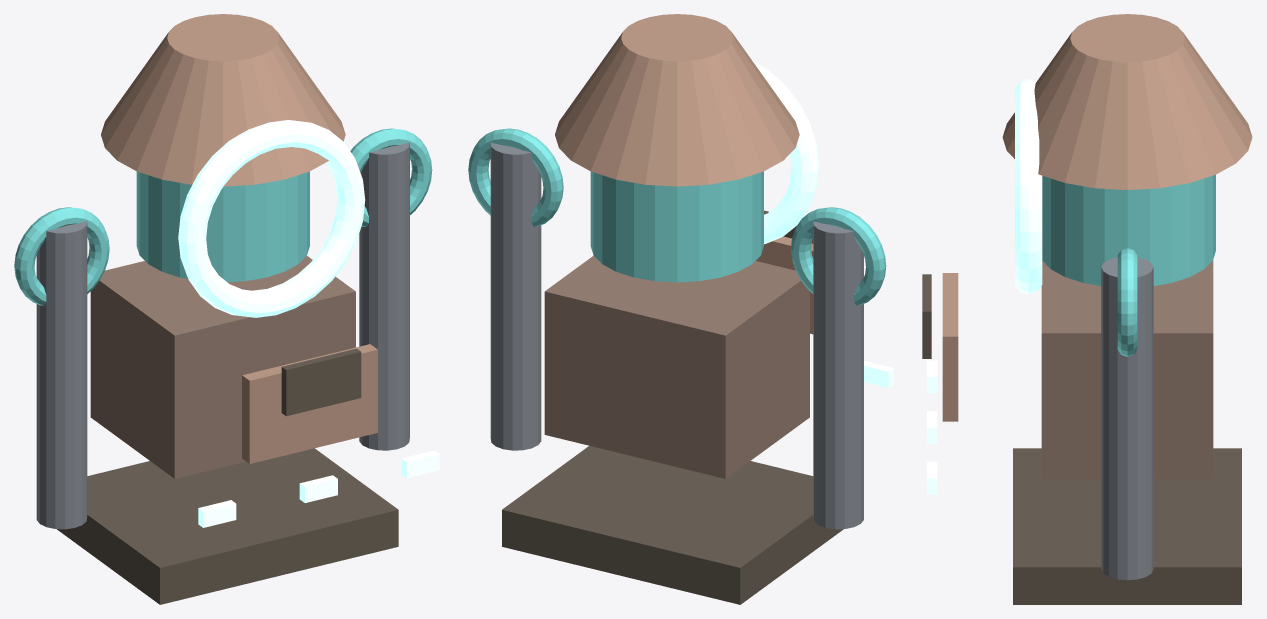
Rendered from asset.glb.
3 renders of one model, left to right at view 1: azimuth 30°, elevation 25°; view 2: azimuth 150°, elevation 25°; view 3: azimuth 270°, elevation 25°, orthographic. The views are drawn at different scales.
Visible parts, largest first — view 1: Housing, Foot, TopCap, SidePost_-1, CoreHalo, Core, SidePost_1, FrontInset, ControlFace, SideRing_-1, SideRing_1, FunctionalTrim_1 (+2 smaller); view 2: Housing, Foot, TopCap, Core, SidePost_1, SidePost_-1, CoreHalo, SideRing_-1, SideRing_1, FrontInset, FunctionalTrim_0; view 3: TopCap, Foot, Housing, SidePost_1, Core, CoreHalo, FrontInset, SideRing_1, ControlFace.
Boxes of the visible parts, x1=… form: Housing: x1=90, y1=256, x2=355, y2=478; Foot: x1=57, y1=448, x2=398, y2=604; TopCap: x1=101, y1=14, x2=345, y2=186; SidePost_-1: x1=36, y1=216, x2=87, y2=529; CoreHalo: x1=178, y1=120, x2=365, y2=317; Core: x1=136, y1=171, x2=309, y2=282; SidePost_1: x1=359, y1=137, x2=409, y2=450; FrontInset: x1=242, y1=344, x2=377, y2=463; ControlFace: x1=281, y1=348, x2=361, y2=416; SideRing_-1: x1=14, y1=207, x2=109, y2=305; SideRing_1: x1=350, y1=128, x2=432, y2=226; FunctionalTrim_1: x1=299, y1=475, x2=337, y2=502; Housing: x1=544, y1=255, x2=809, y2=478; Foot: x1=502, y1=446, x2=843, y2=604; TopCap: x1=555, y1=14, x2=799, y2=186; Core: x1=590, y1=171, x2=763, y2=282; SidePost_1: x1=490, y1=137, x2=541, y2=450; SidePost_-1: x1=813, y1=216, x2=863, y2=529; CoreHalo: x1=752, y1=60, x2=819, y2=244; SideRing_-1: x1=791, y1=207, x2=886, y2=305; SideRing_1: x1=468, y1=128, x2=563, y2=226; FrontInset: x1=756, y1=236, x2=813, y2=334; FunctionalTrim_0: x1=864, y1=361, x2=893, y2=387; TopCap: x1=1002, y1=14, x2=1252, y2=189; Foot: x1=1013, y1=448, x2=1241, y2=604; Housing: x1=1041, y1=260, x2=1213, y2=479; SidePost_1: x1=1101, y1=257, x2=1153, y2=580; Core: x1=1042, y1=174, x2=1215, y2=285; CoreHalo: x1=1015, y1=79, x2=1042, y2=294; FrontInset: x1=942, y1=273, x2=958, y2=421; SideRing_1: x1=1117, y1=248, x2=1137, y2=356; ControlFace: x1=922, y1=274, x2=931, y2=358.
Bounding box in the file's own units: 1.88 × 2.15 × 1.27.
